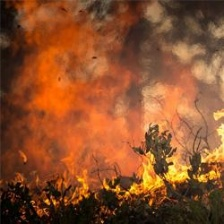fire: (14, 109, 224, 207)
